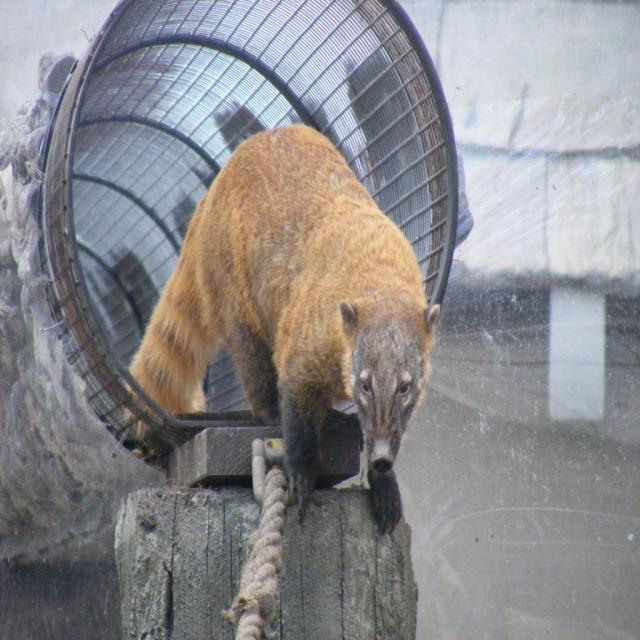Buffalo: (140, 120, 439, 503)
